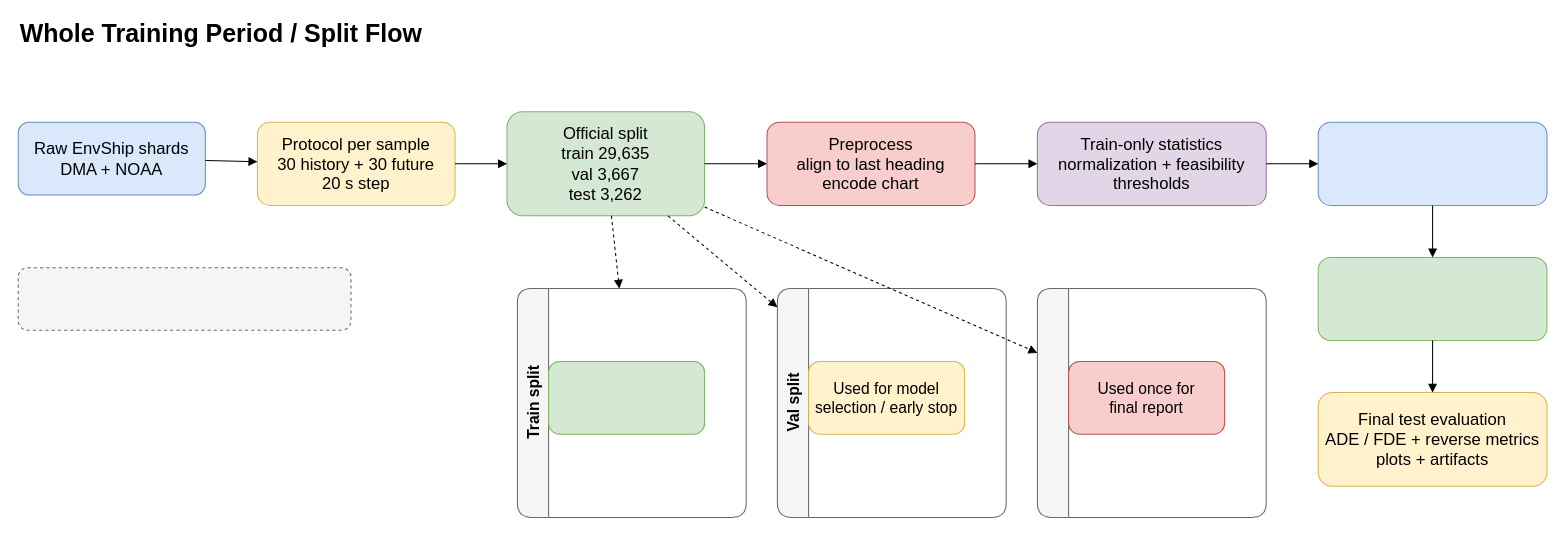
Some shapes in this 1565 by 536 pixel diagram are drawn without their labels. Each missing label, with the box of its shape:
Based on README + preprocess/trainer flow: (17, 267, 351, 330)
Keep best checkpoint by validation ADE: (1317, 256, 1547, 341)
Test split: (1036, 288, 1266, 517)
Training epochs shuffle train only validate every epoch: (1317, 121, 1547, 205)
Used for fitting + statistics: (548, 360, 705, 434)
